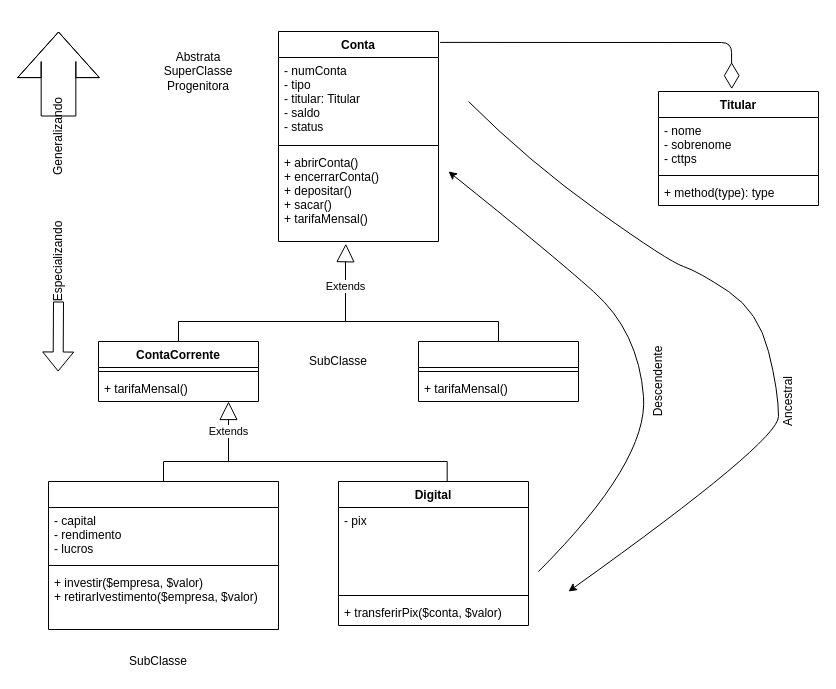
The diagram is 836 pixels wide and 689 high, and some of its shapes have lost their labels. The shapes that lost their labels are listed below. From the top down, each one's box as (x1, y1, x2, y2) in pixels, then its label:
(418, 340, 578, 402): ContaPoupanca
(48, 480, 278, 630): Investimentos
